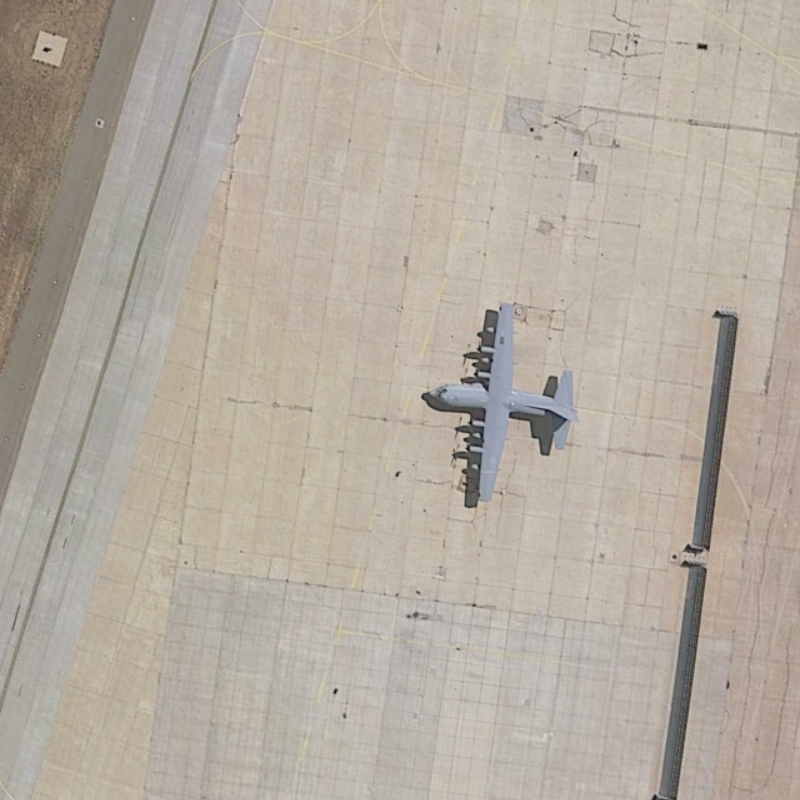A2: (415, 293, 582, 508)
